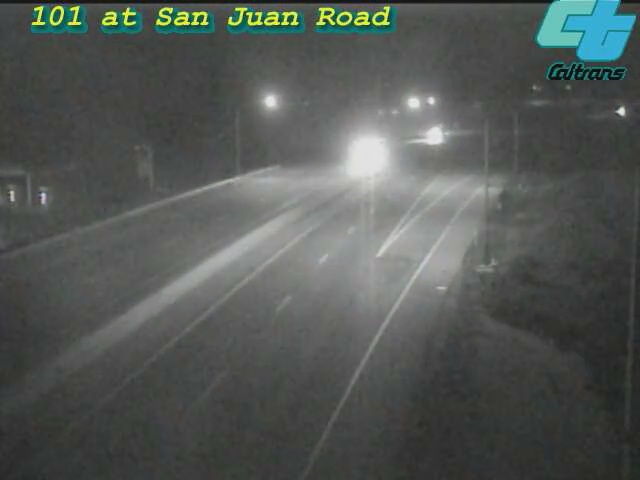vehicle: (343, 128, 393, 178), (412, 110, 462, 160), (594, 87, 640, 137)
